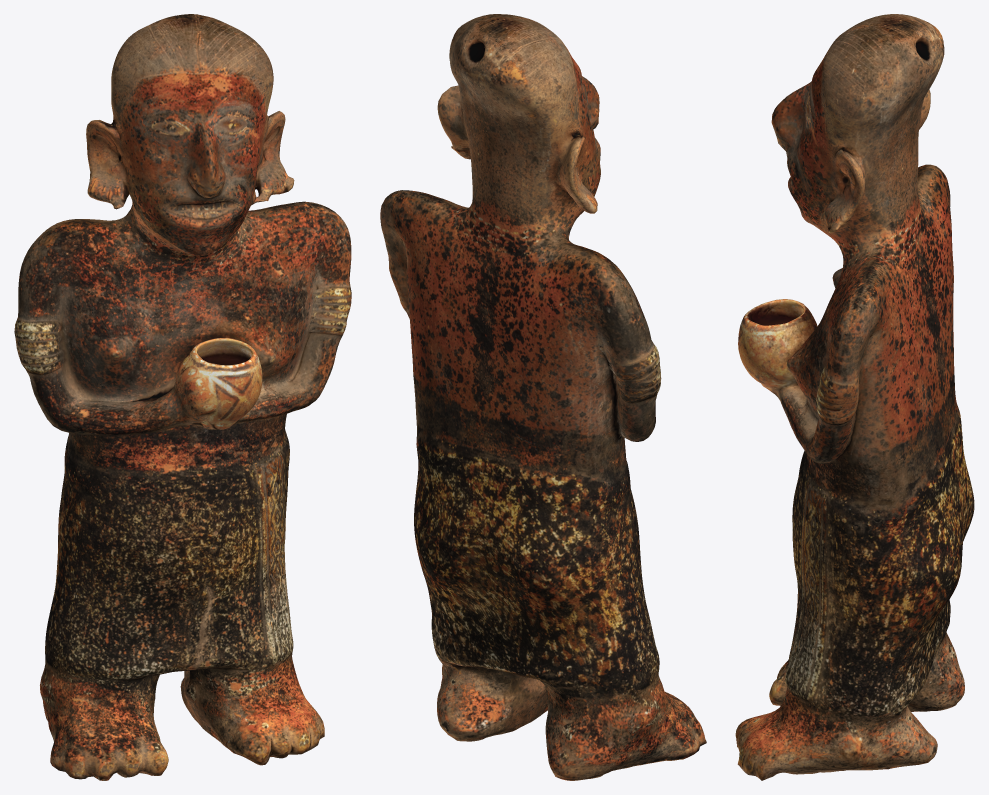
The model's file is preview.glb.
3 renders of one model, left to right at view 1: azimuth 30°, elevation 25°; view 2: azimuth 150°, elevation 25°; view 3: azimuth 270°, elevation 25°, orthographic. The views are drawn at different scales.
Visible parts, largest first — view 1: Object_2; view 2: Object_2; view 3: Object_2.
Boxes of the visible parts, box(x1,y1,x2,y2) form: Object_2: box(14, 14, 351, 780); Object_2: box(380, 14, 706, 780); Object_2: box(735, 14, 974, 780).
Bounding box in the file's own units: 0.6783 × 1.5 × 0.4476.
Materials: 1 (1 with a texture image).
